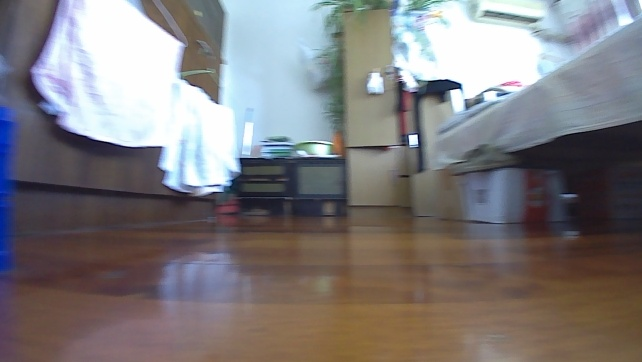bed1: (428, 14, 641, 226)
